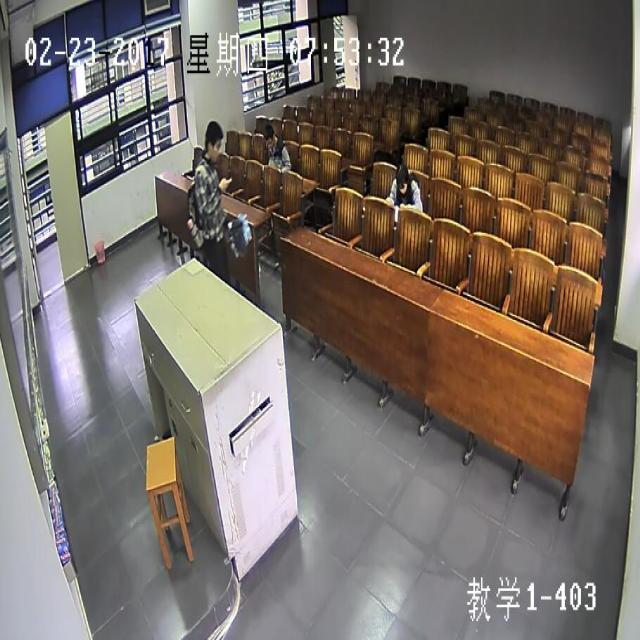person: (199, 118, 222, 160), (394, 160, 410, 197), (262, 118, 275, 148)
